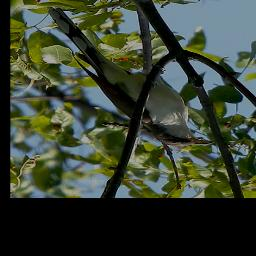Cuckoo: (45, 6, 215, 148)
